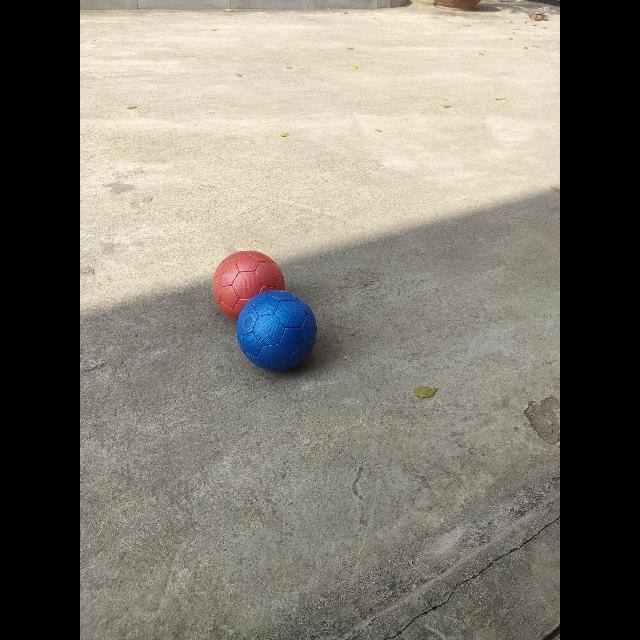B: (236, 290, 316, 371)
R: (212, 250, 285, 319)
